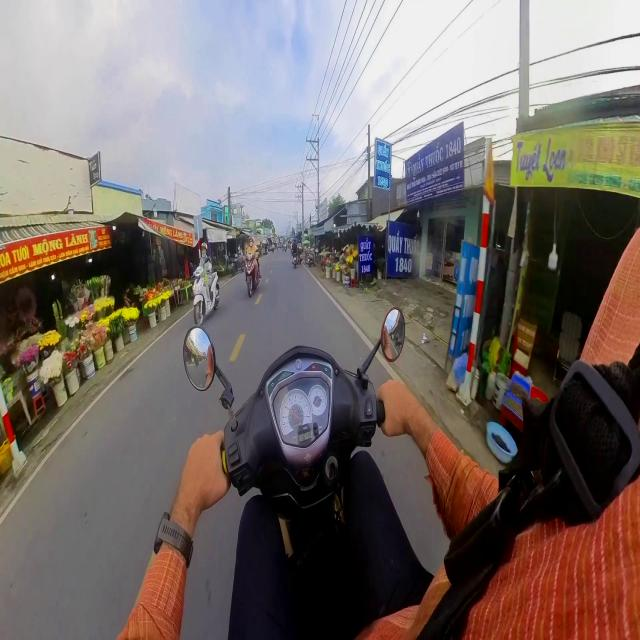motorcycle: (184, 308, 404, 637), (193, 262, 219, 324), (245, 254, 258, 298)
